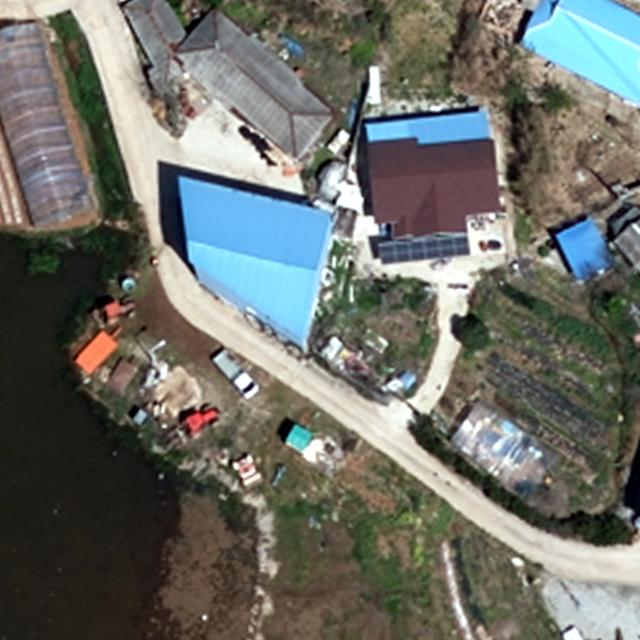solarpanel: (374, 231, 472, 268)
